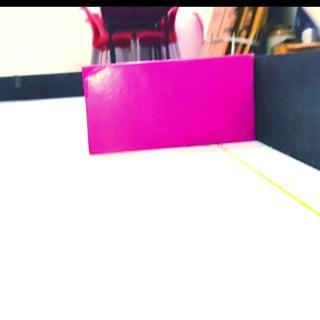xparking: (81, 68, 254, 155)
